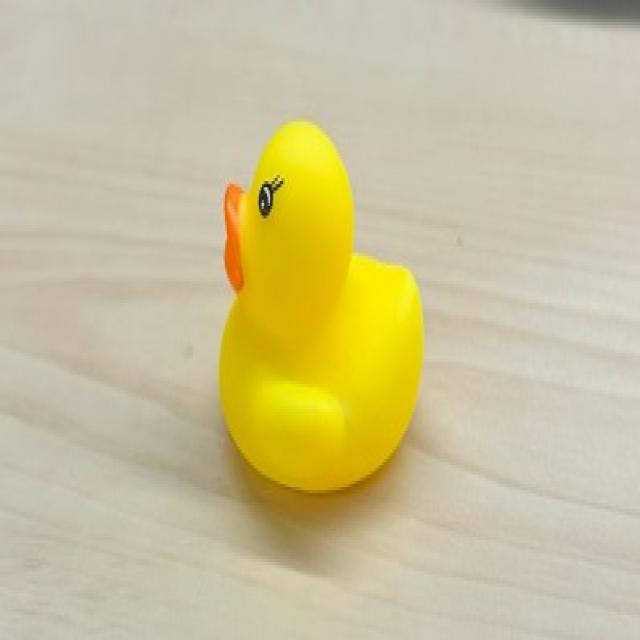duck_regular: (189, 80, 435, 533)
